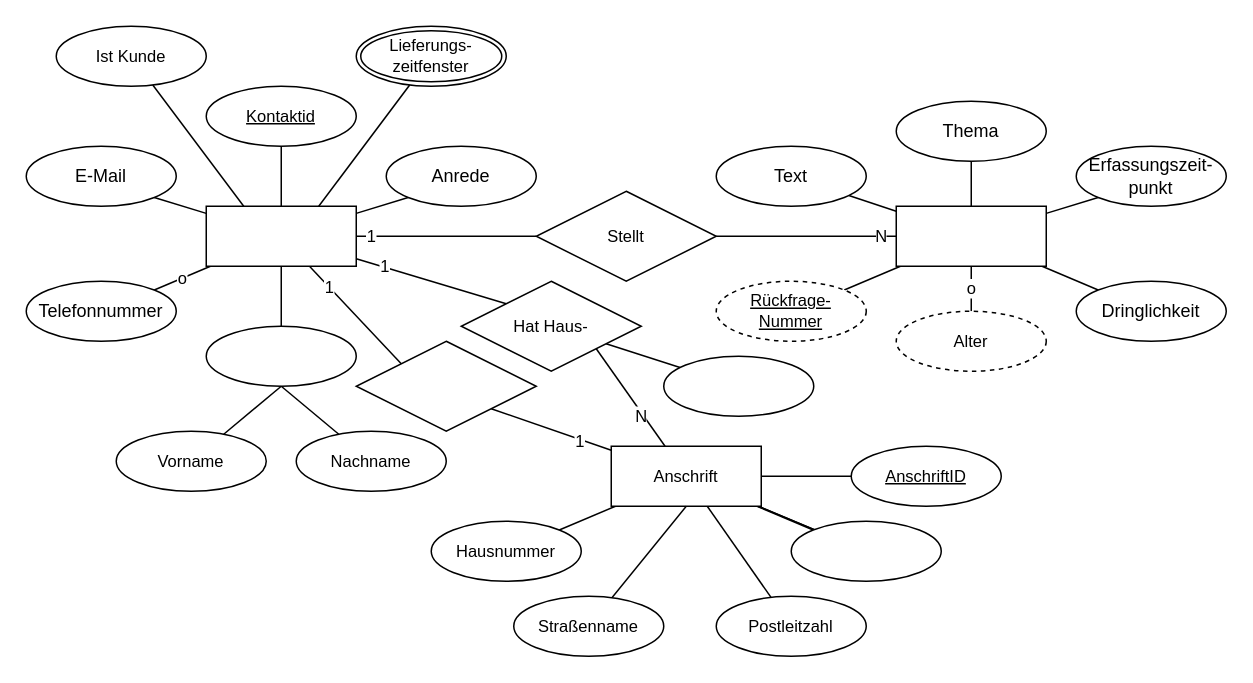
Some shapes in this 1253 by 683 pixel diagram are drawn without their labels. The shapes that lost their labels are listed below. From the top down, each one's box as (x1, y1, x2, y2) in pixels, then its label:
(205, 205, 356, 266): Kontakt
(895, 205, 1046, 266): Rückfrage
(205, 325, 356, 386): Name
(355, 340, 536, 431): Hat Rechnungs-
(662, 355, 814, 416): Art
(790, 520, 941, 581): Ort
